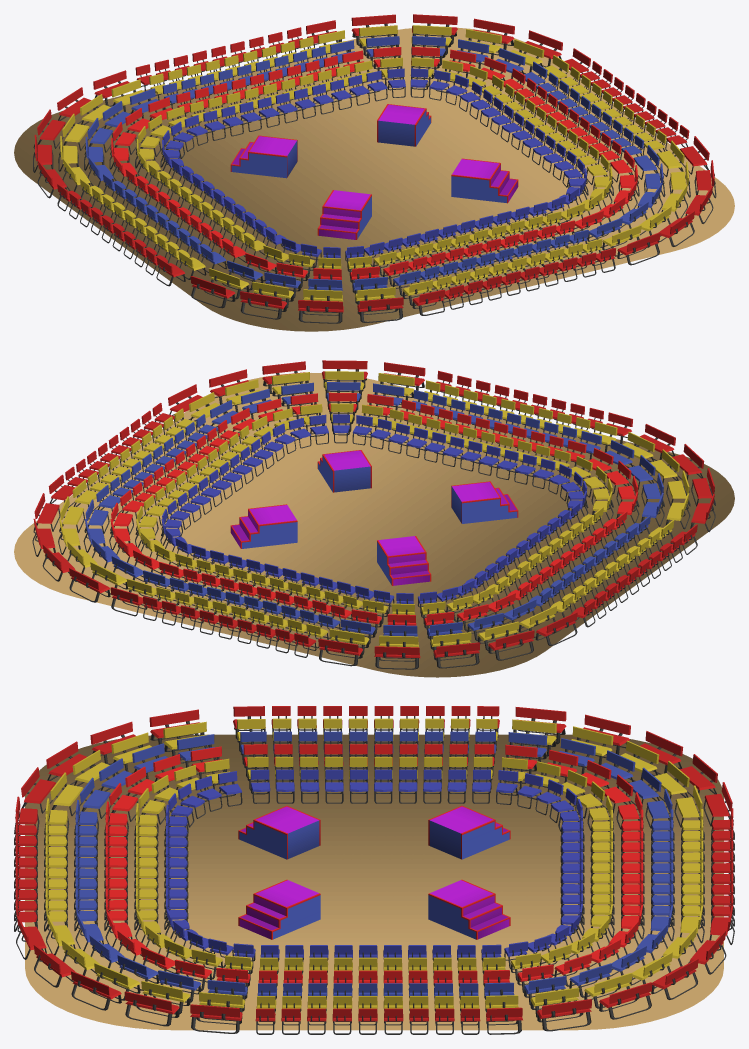
Rendered from Enviro.fbx.
3 views of the same model, one above another, from view 1: azimuth 30°, elevation 25°; view 2: azimuth 150°, elevation 25°; view 3: azimuth 270°, elevation 25° (orthographic). The views are drawn at different scales.
Parts seen in each view (by area): view 1: Plane.003, Plane.001_Curve.006, Plane.001_Curve.005, Plane.001_Curve.004, Plane.001_Curve.002, Plane.001_Curve.003, Plane.001_Curve.001, Cube; view 2: Plane.003, Plane.001_Curve.006, Plane.001_Curve.005, Plane.001_Curve.004, Plane.001_Curve.002, Plane.001_Curve.003, Plane.001_Curve.001, Cube; view 3: Plane.003, Plane.001_Curve.006, Plane.001_Curve.005, Plane.001_Curve.004, Plane.001_Curve.002, Plane.001_Curve.003, Plane.001_Curve.001, Cube.
Boxes of the visible parts, <box> form: Plane.003: <box>14,27,734,331</box>; Plane.001_Curve.006: <box>33,14,716,323</box>; Plane.001_Curve.005: <box>58,25,690,312</box>; Plane.001_Curve.004: <box>84,36,665,301</box>; Plane.001_Curve.002: <box>109,46,639,290</box>; Plane.001_Curve.003: <box>160,68,588,269</box>; Plane.001_Curve.001: <box>135,57,613,279</box>; Cube: <box>230,104,518,239</box>; Plane.003: <box>14,373,734,677</box>; Plane.001_Curve.006: <box>32,360,715,669</box>; Plane.001_Curve.005: <box>58,371,690,658</box>; Plane.001_Curve.004: <box>83,382,664,646</box>; Plane.001_Curve.002: <box>109,392,639,636</box>; Plane.001_Curve.003: <box>160,414,588,614</box>; Plane.001_Curve.001: <box>135,403,613,625</box>; Cube: <box>230,450,518,585</box>; Plane.003: <box>25,734,723,1030</box>; Plane.001_Curve.006: <box>14,706,734,1034</box>; Plane.001_Curve.005: <box>44,718,704,1021</box>; Plane.001_Curve.004: <box>74,731,674,1007</box>; Plane.001_Curve.002: <box>104,744,644,995</box>; Plane.001_Curve.003: <box>164,769,584,970</box>; Plane.001_Curve.001: <box>134,757,614,983</box>; Cube: <box>238,805,510,939</box>.
Bounding box in the file's own units: 3029 × 122 × 3029.
